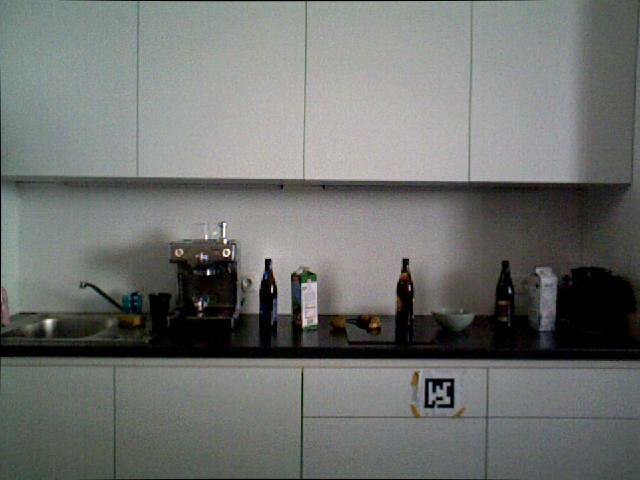bench: (290, 264, 321, 332), (529, 265, 558, 333), (395, 257, 414, 343), (258, 257, 278, 334), (494, 259, 514, 328), (0, 275, 16, 331)
bird: (431, 307, 475, 332)
couch: (0, 311, 125, 341)
handbag: (188, 219, 223, 244), (148, 290, 172, 322), (120, 292, 145, 321)
motorcycle: (353, 312, 383, 332)
